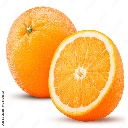orange: (45, 28, 126, 122), (5, 5, 82, 100)
